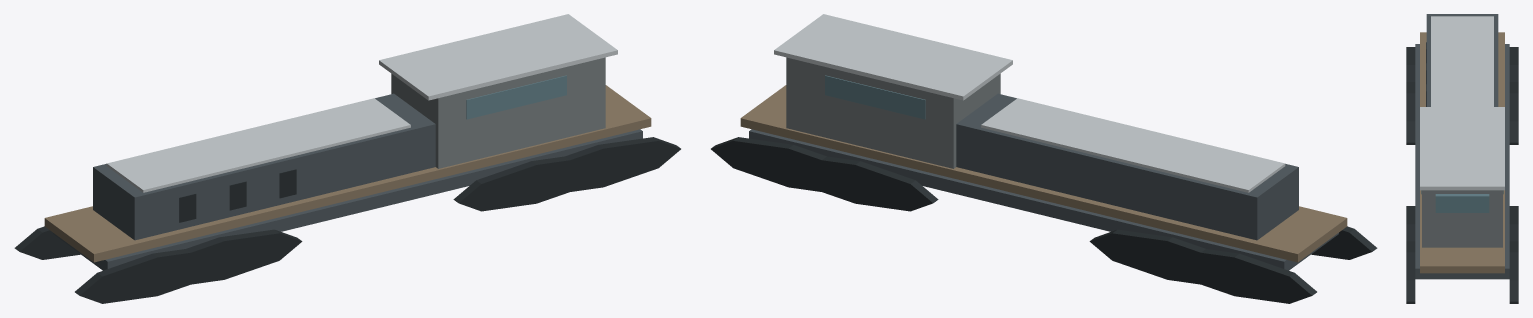
Rendered from engine.glb.
3 renders of one model, left to right at view 1: azimuth 30°, elevation 25°; view 2: azimuth 150°, elevation 25°; view 3: azimuth 270°, elevation 25°, orthographic. The views are drawn at different scales.
Parts seen in each view (by area): view 1: engine; view 2: engine; view 3: engine.
Part boxes in pixels (x1,y1,x2,y2): engine: [14, 14, 680, 303]; engine: [711, 14, 1377, 303]; engine: [1406, 14, 1518, 303].
Bounding box in the file's own units: 16 × 3.2 × 3.
